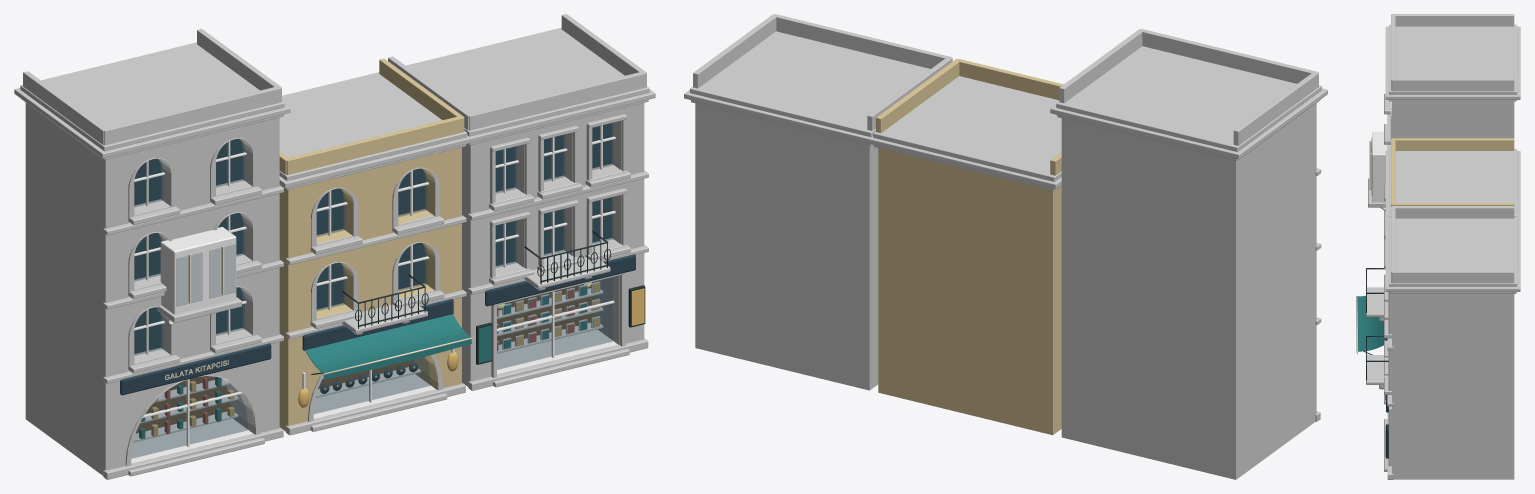
The model's file is DistrictBlock_4_0.glb.
3 views of the same model, side by side, from view 1: azimuth 30°, elevation 25°; view 2: azimuth 150°, elevation 25°; view 3: azimuth 270°, elevation 25° (orthographic). The views are drawn at different scales.
Visible parts, largest first — view 1: RK_DistrictBlock_4_0_LC_Lime, RK_DistrictBlock_4_0_LC_Glass, RK_DistrictBlock_4_0_LC_Ochre, RK_DistrictBlock_4_0_LC_Wood, RK_DistrictBlock_4_0_LC_Ink, RK_DistrictBlock_4_0_LC_Teal, RK_DistrictBlock_4_0_LC_Interior, RK_DistrictBlock_4_0_LC_Iron, RK_DistrictBlock_4_0_LC_Gold, RK_DistrictBlock_4_0_LC_Canvas, RK_DistrictBlock_4_0_LC_Red; view 2: RK_DistrictBlock_4_0_LC_Lime, RK_DistrictBlock_4_0_LC_Ochre; view 3: RK_DistrictBlock_4_0_LC_Lime, RK_DistrictBlock_4_0_LC_Ochre, RK_DistrictBlock_4_0_LC_Teal, RK_DistrictBlock_4_0_LC_Wood, RK_DistrictBlock_4_0_LC_Iron, RK_DistrictBlock_4_0_LC_Canvas.
Boxes of the visible parts, x1,y1,x2,y2 form: RK_DistrictBlock_4_0_LC_Lime: (14, 14, 655, 479); RK_DistrictBlock_4_0_LC_Glass: (131, 123, 613, 458); RK_DistrictBlock_4_0_LC_Ochre: (279, 58, 464, 431); RK_DistrictBlock_4_0_LC_Wood: (131, 125, 617, 463); RK_DistrictBlock_4_0_LC_Ink: (120, 123, 635, 395); RK_DistrictBlock_4_0_LC_Teal: (139, 286, 586, 438); RK_DistrictBlock_4_0_LC_Interior: (136, 281, 595, 433); RK_DistrictBlock_4_0_LC_Iron: (311, 230, 645, 374); RK_DistrictBlock_4_0_LC_Gold: (151, 283, 644, 436); RK_DistrictBlock_4_0_LC_Canvas: (165, 246, 473, 379); RK_DistrictBlock_4_0_LC_Red: (164, 289, 574, 434); RK_DistrictBlock_4_0_LC_Lime: (684, 14, 1327, 479); RK_DistrictBlock_4_0_LC_Ochre: (876, 58, 1063, 435); RK_DistrictBlock_4_0_LC_Lime: (1366, 14, 1520, 479); RK_DistrictBlock_4_0_LC_Ochre: (1391, 138, 1514, 206); RK_DistrictBlock_4_0_LC_Teal: (1357, 296, 1385, 400); RK_DistrictBlock_4_0_LC_Wood: (1372, 131, 1387, 211); RK_DistrictBlock_4_0_LC_Iron: (1363, 268, 1388, 458); RK_DistrictBlock_4_0_LC_Canvas: (1356, 140, 1371, 352).
Bounding box in the file's own units: 19.1 × 11.47 × 6.44.
